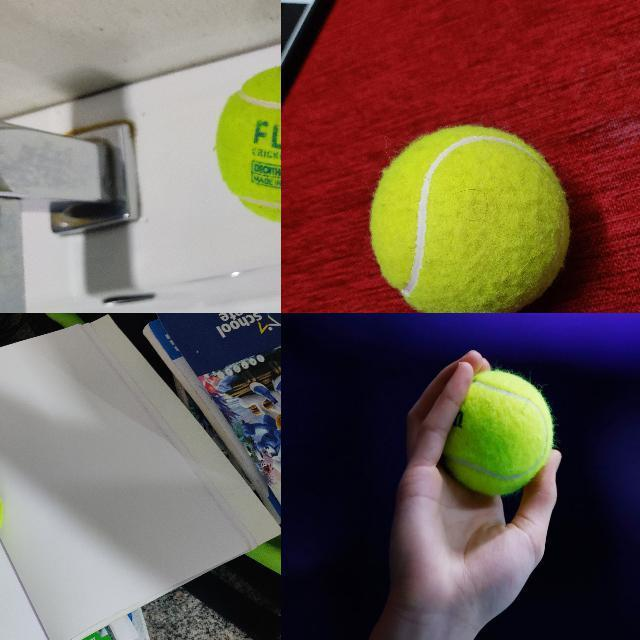tennis-ball: (369, 125, 570, 312), (443, 369, 553, 495), (212, 65, 280, 226)
